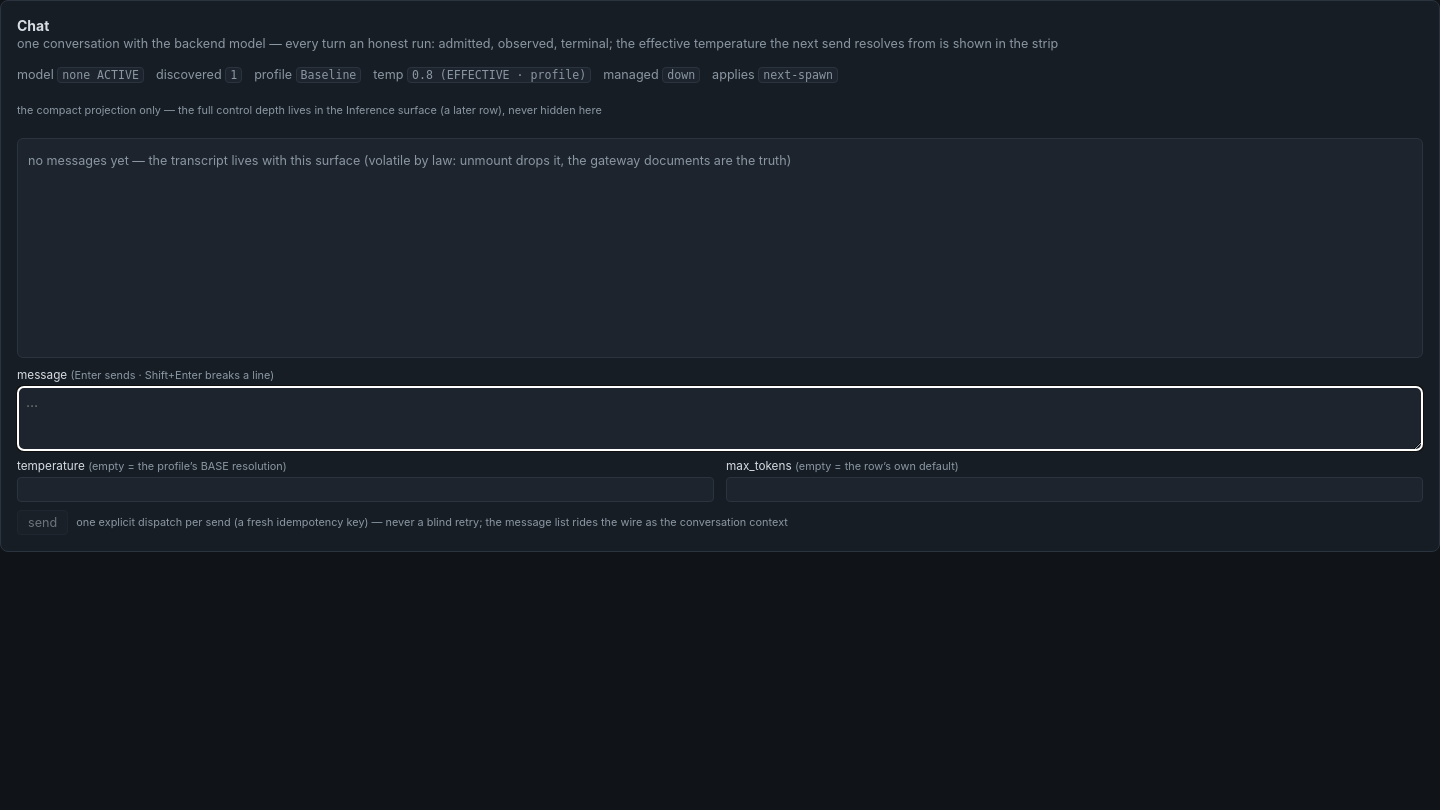
Test case: the Chat surface (Phase 3, row 4 — the conversation world) › a REJECTED send renders the verbatim reason and never auto-retries (G4)
Expected: the element with test id "chat-context" shows "Baseline", [301,68,356,82]
Type "hi" into the text box with test id "chat-input" at (720, 418), box [17,386,1423,451]
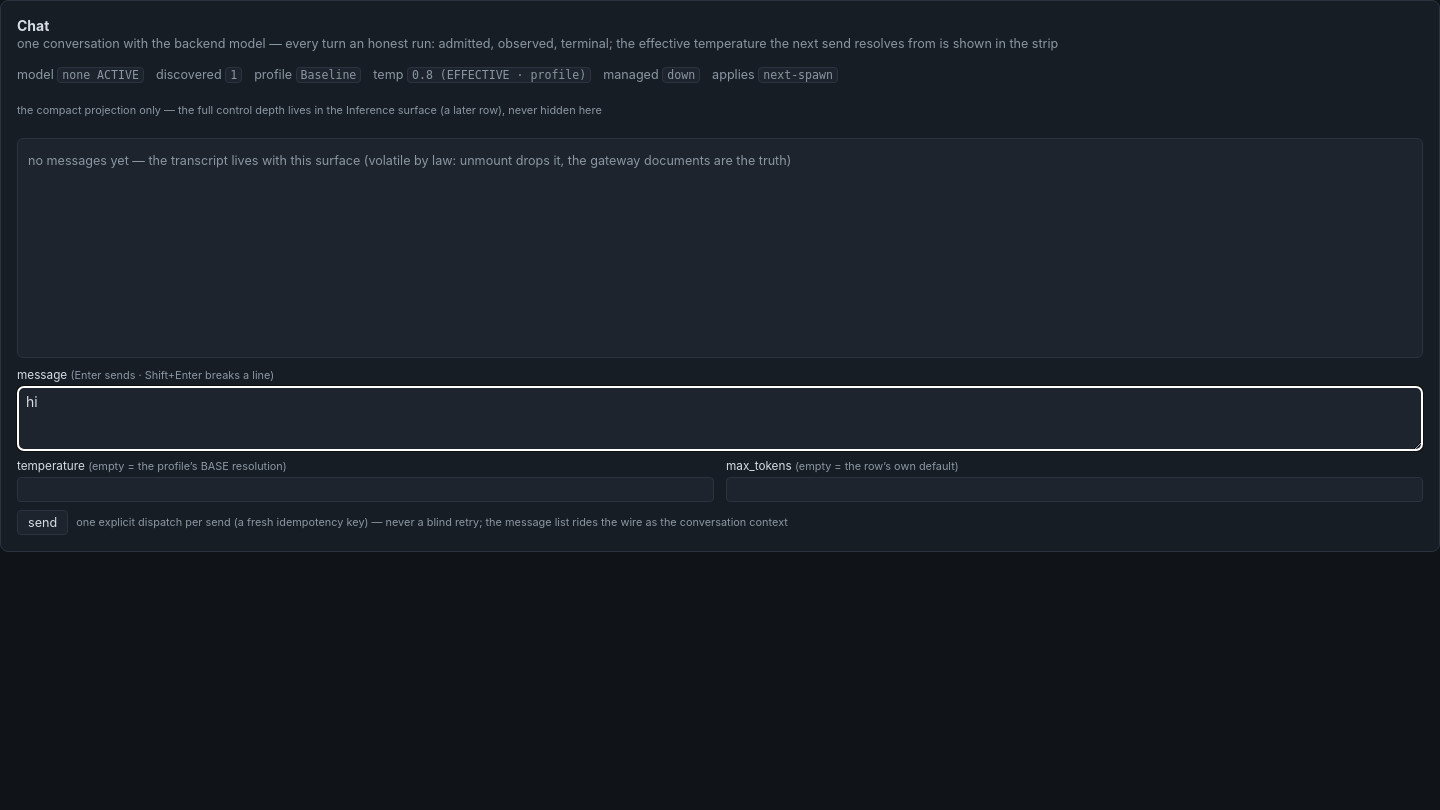
Click the button "send" at (43, 522), box [17,510,68,535]
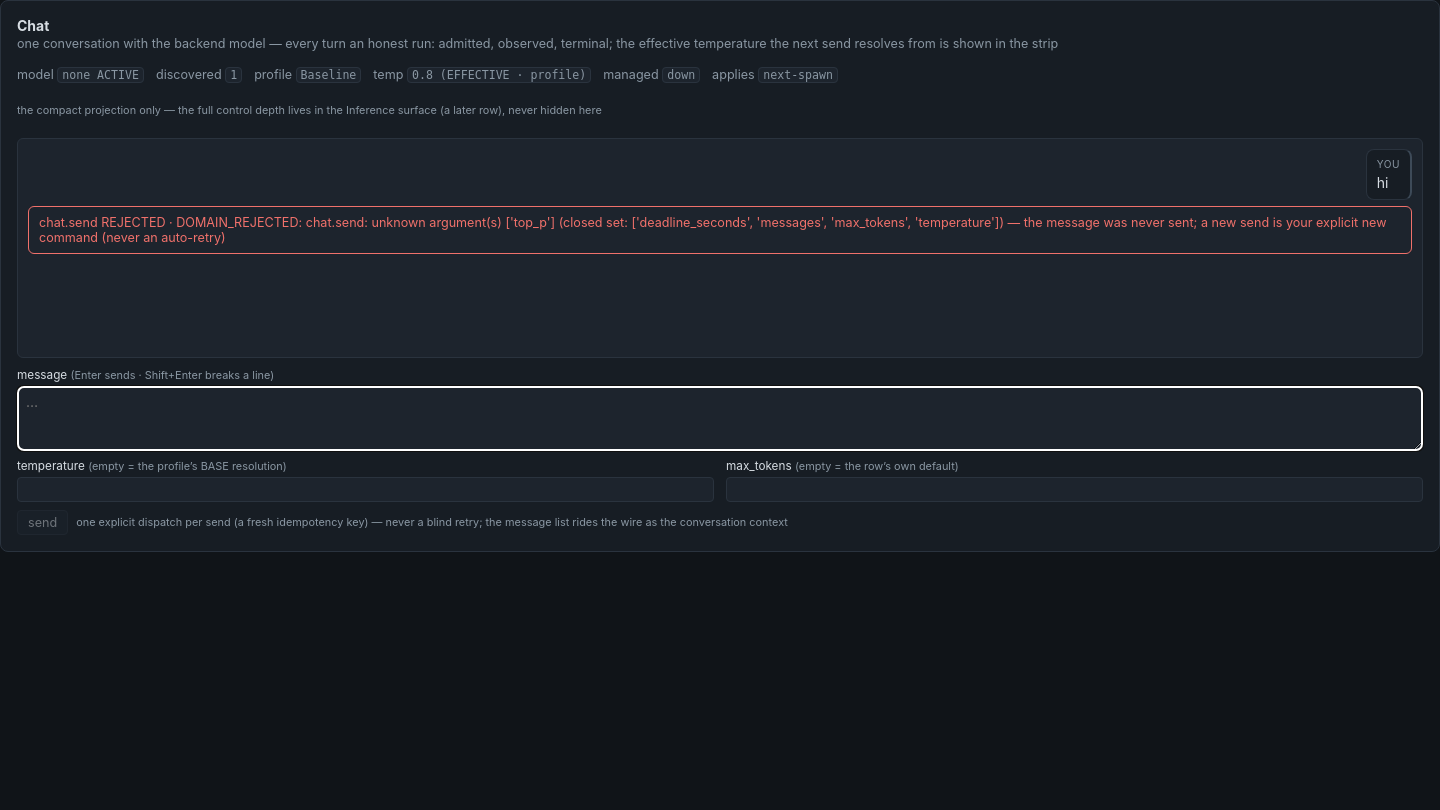
Result: the message shows "chat.send REJECTED · DOMAIN_REJECTED" at [39,215,1386,245]
Result: the message shows "unknown argument(s) ['top_p']" at [39,215,1386,245]
Result: the message shows "never an auto-retry" at [39,215,1386,245]
